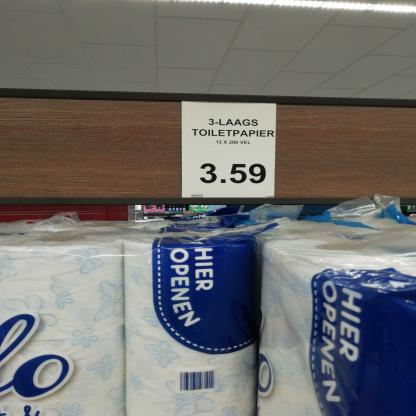prtg: (182, 103, 277, 199)
